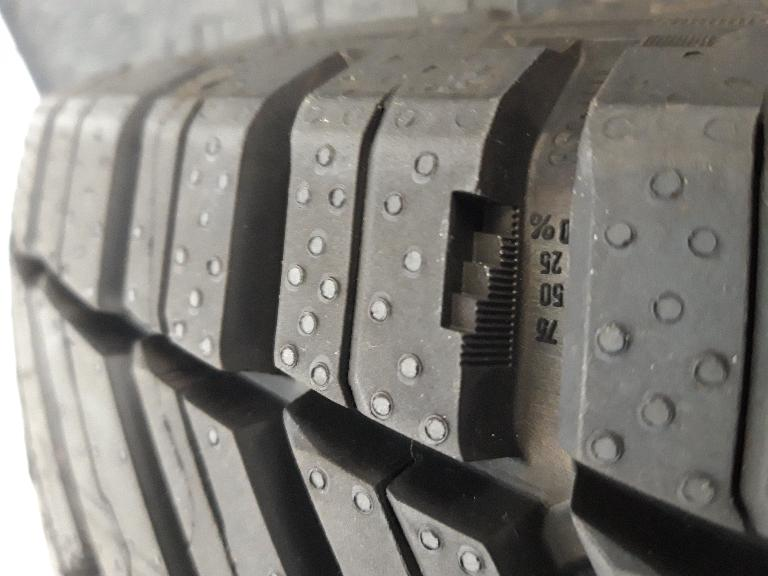temoin:100: (438, 190, 525, 368)
